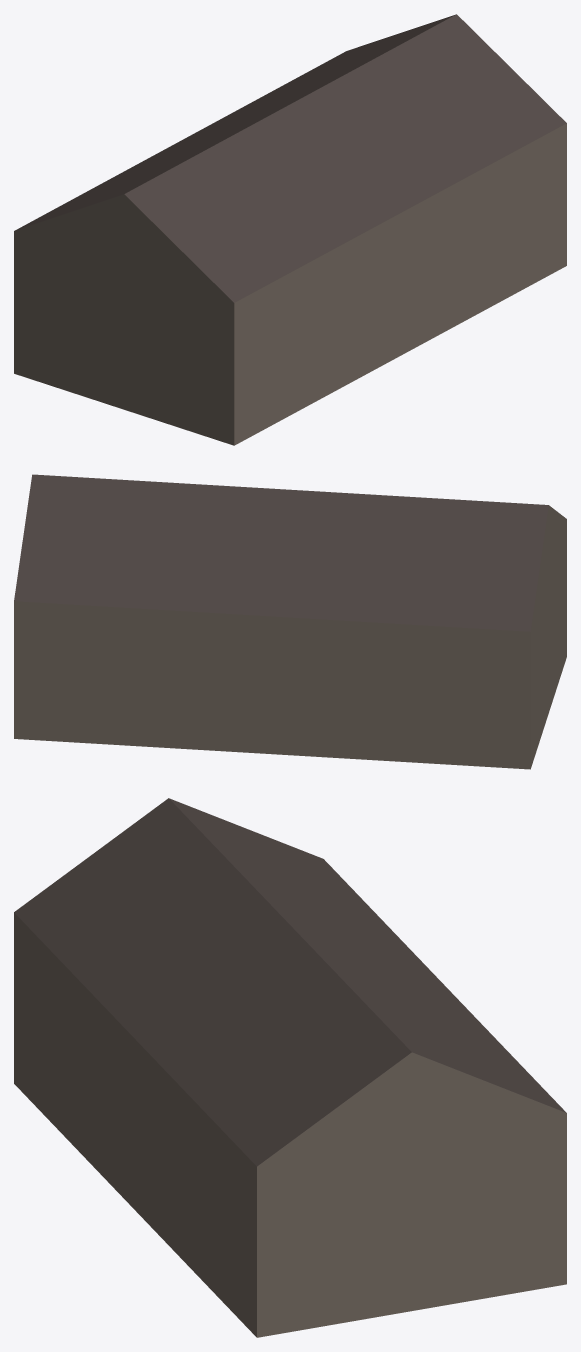
The picture shows the model from 3 angles, top to bottom: view 1: azimuth 30°, elevation 25°; view 2: azimuth 150°, elevation 25°; view 3: azimuth 270°, elevation 25°; orthographic projection. The views are drawn at different scales.
Visible parts, largest first — view 1: HP-w369342497; view 2: HP-w369342497; view 3: HP-w369342497.
Boxes of the visible parts, left/top/right/bottom form: HP-w369342497: left=14, top=14, right=566, bottom=445; HP-w369342497: left=14, top=474, right=566, bottom=769; HP-w369342497: left=14, top=798, right=566, bottom=1337.
Size of the model in its own units: 23.13 by 9.07 by 17.56.
